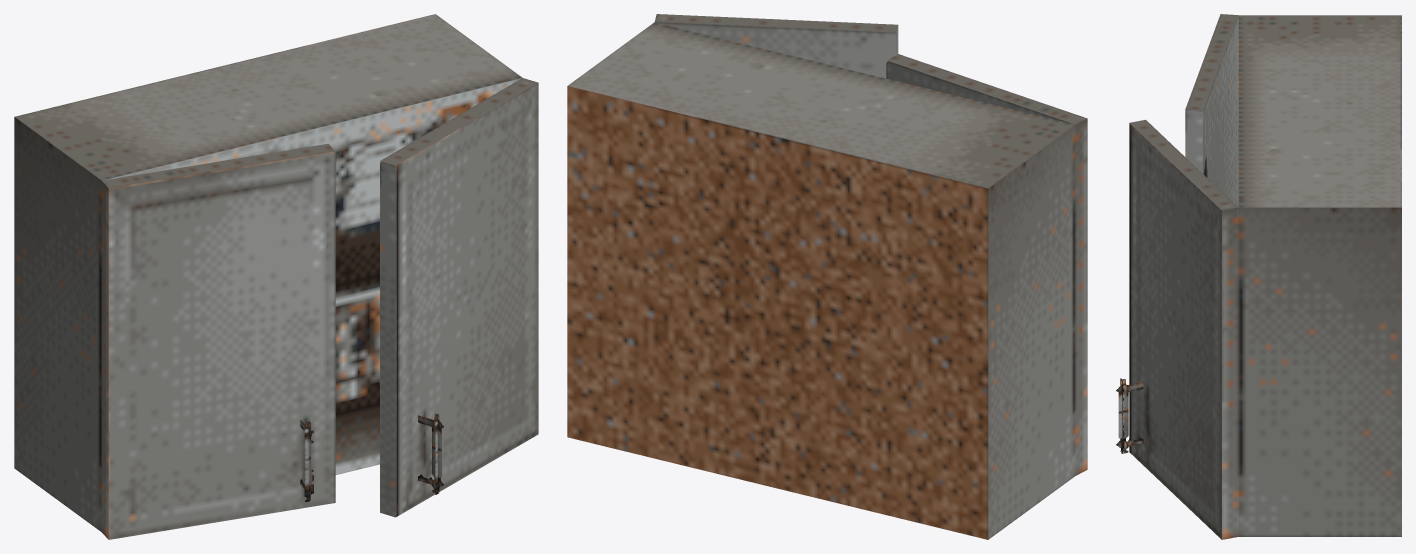
The model's file is kitchen_shelf2.fbx.
3 renders of one model, left to right at view 1: azimuth 30°, elevation 25°; view 2: azimuth 150°, elevation 25°; view 3: azimuth 270°, elevation 25°, orthographic. The views are drawn at different scales.
Parts seen in each view (by area): view 1: Kitchen shelf 2; view 2: Kitchen shelf 2; view 3: Kitchen shelf 2.
Part boxes in pixels (left/top/right/bottom): Kitchen shelf 2: left=14, top=14, right=538, bottom=539; Kitchen shelf 2: left=567, top=14, right=1087, bottom=539; Kitchen shelf 2: left=1116, top=14, right=1401, bottom=539.
Bounding box in the file's own units: 154 × 120 × 94.47.
Materials: 1 (1 with a texture image).
